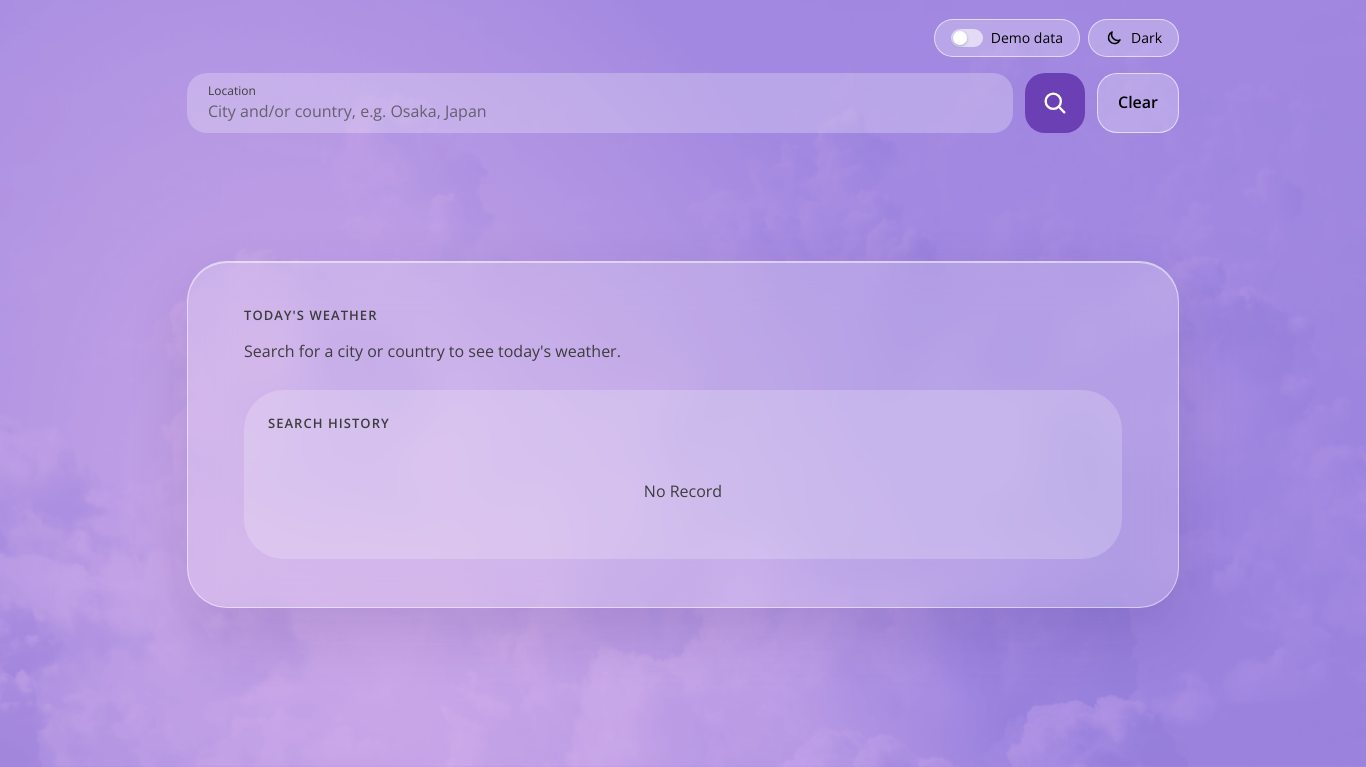
App › picking a suggestion searches exactly that place and fills the search box
In the dropdown labelled "Location": (600, 111) [208, 100, 992, 122], type "Joh"
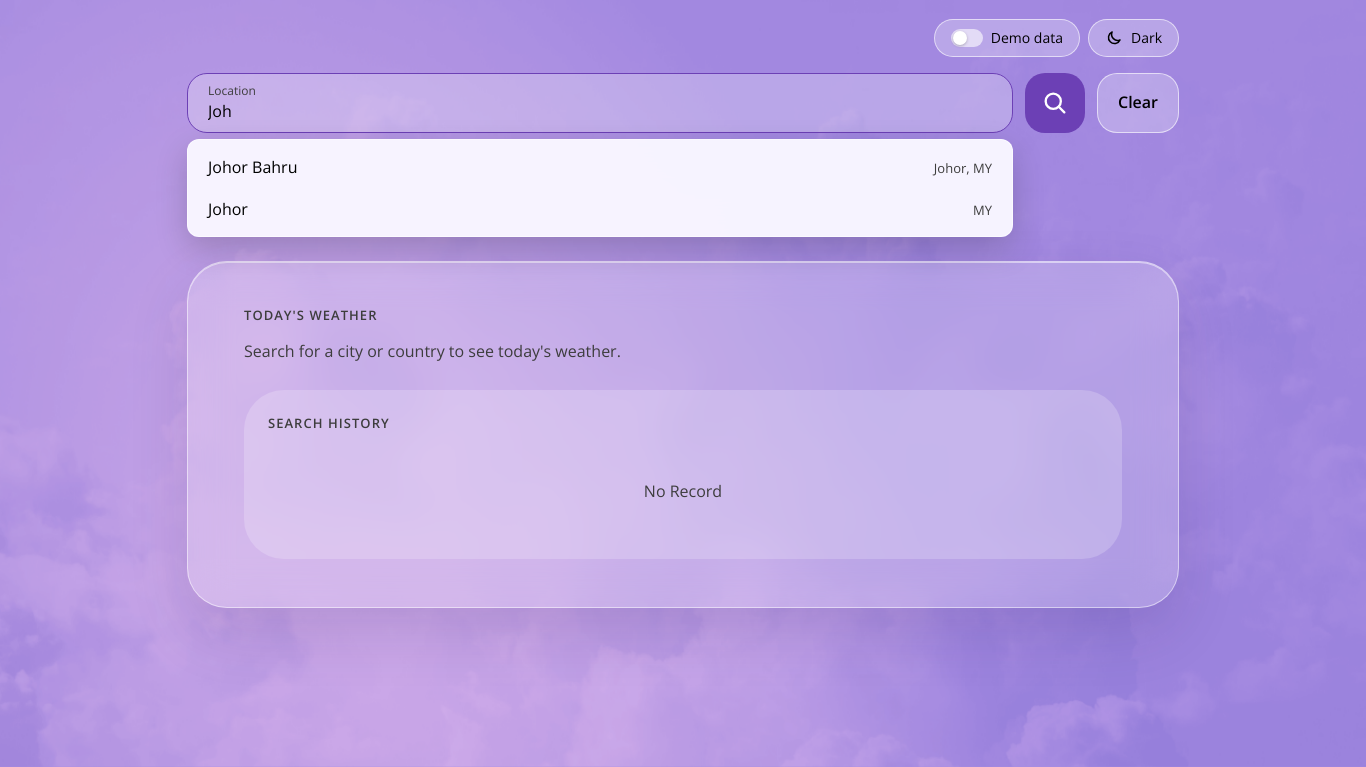
Click the option "Johor Bahru Johor, MY": (253, 167) [208, 156, 992, 178]
(page scrolled)
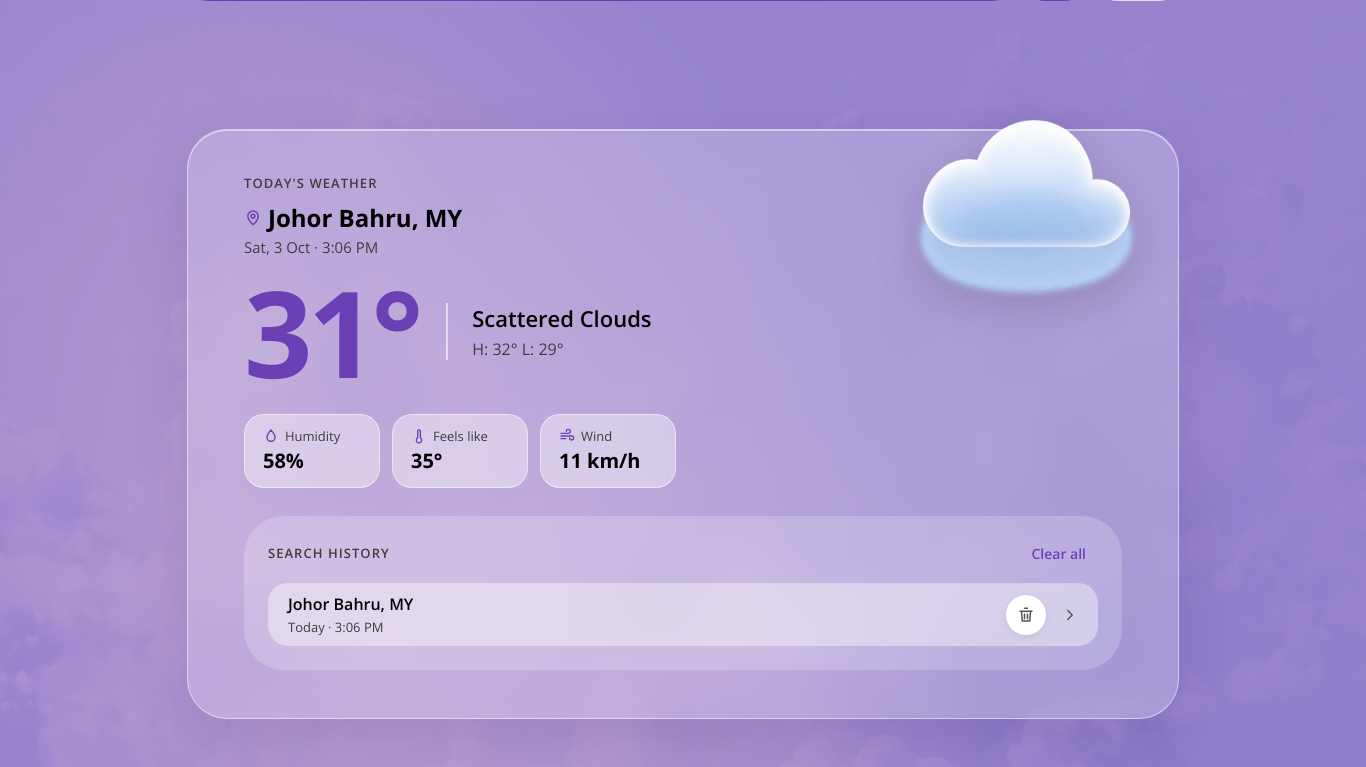
Now the text "58%" is shown, box [263, 447, 304, 474]
Now the list item shows "Johor Bahru, MY", box [288, 593, 413, 615]
